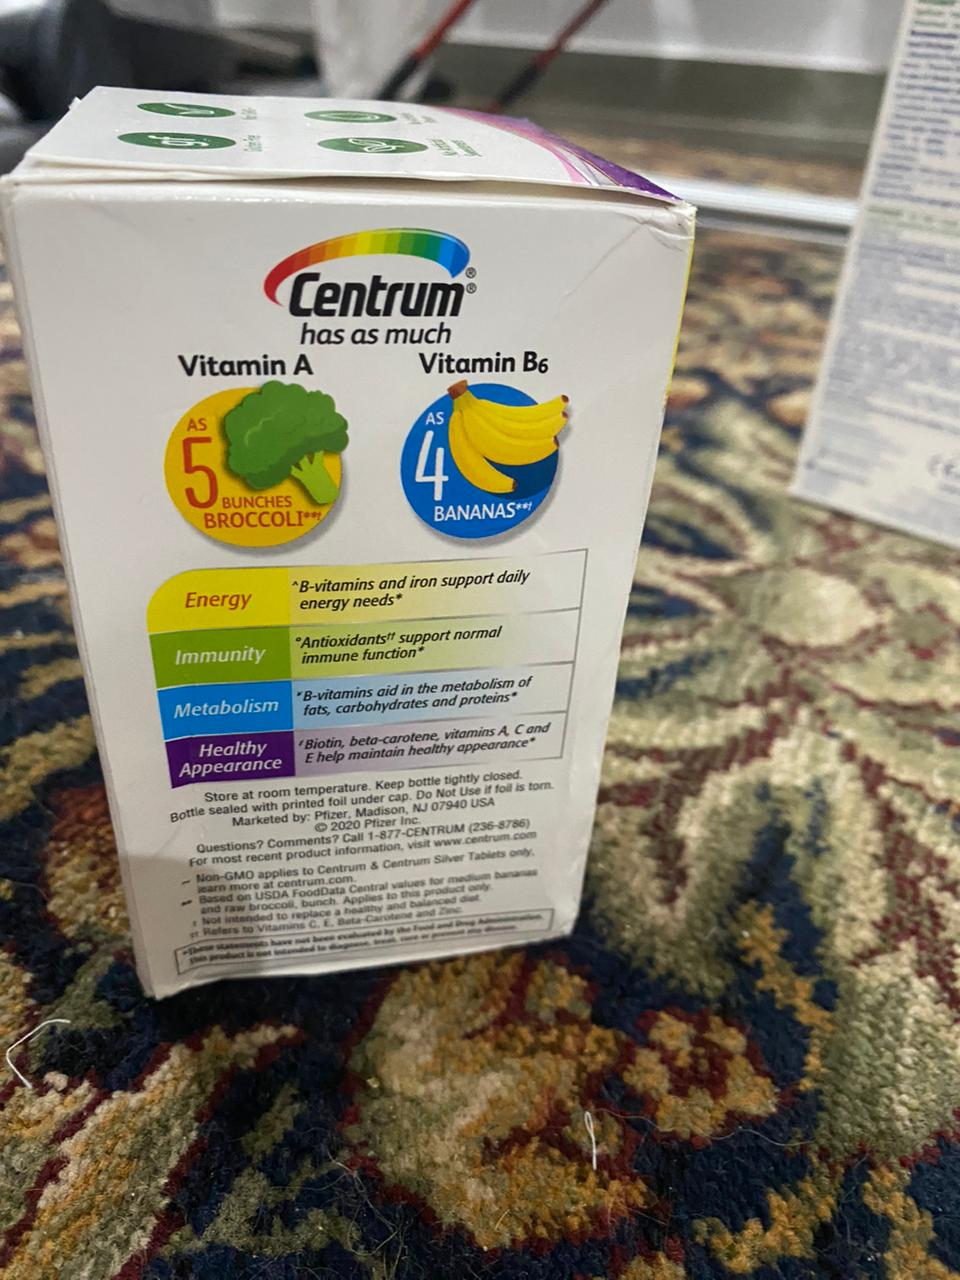Centrum: (13, 76, 698, 1000)
Physiomer: (787, 4, 960, 549)
